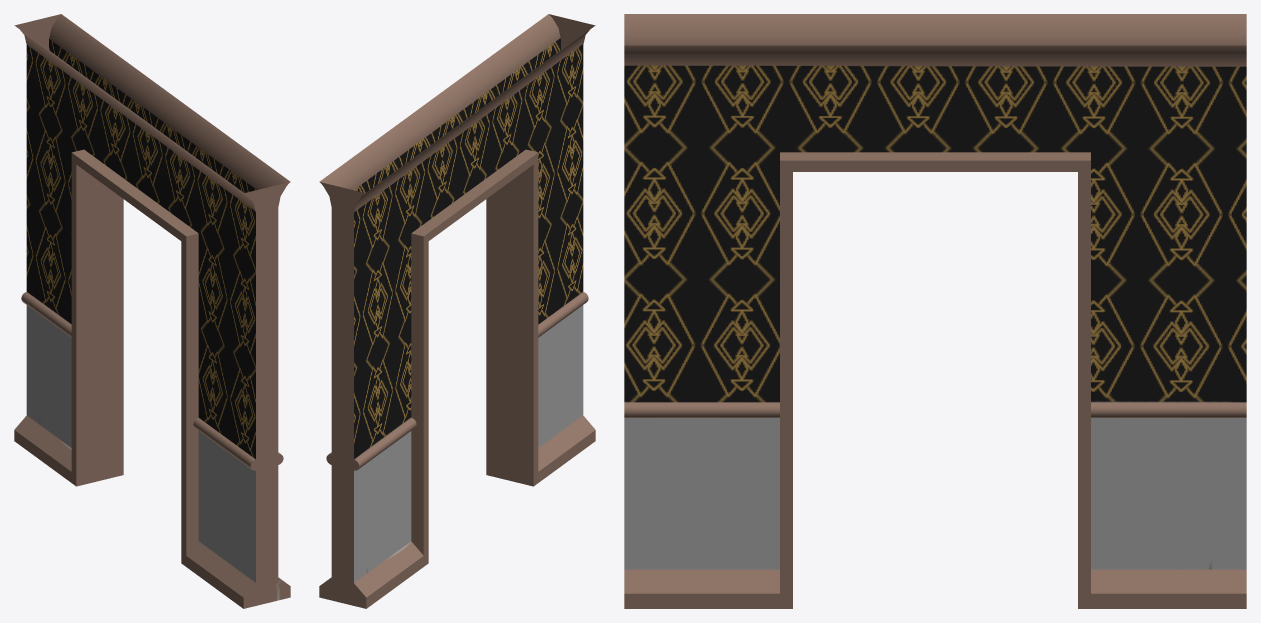
File: Door_Frame_Geo_V2.fbx
3 renders of one model, left to right at view 1: azimuth 30°, elevation 25°; view 2: azimuth 150°, elevation 25°; view 3: azimuth 270°, elevation 25°, orthographic. The views are drawn at different scales.
Parts seen in each view (by area): view 1: polySurface25; view 2: polySurface25; view 3: polySurface25.
Boxes of the visible parts, x1,y1,x2,y2 form: polySurface25: [14, 14, 290, 608]; polySurface25: [319, 14, 595, 608]; polySurface25: [624, 14, 1246, 608].
Size of the model in its own units: 0.3559 by 3 by 3.
